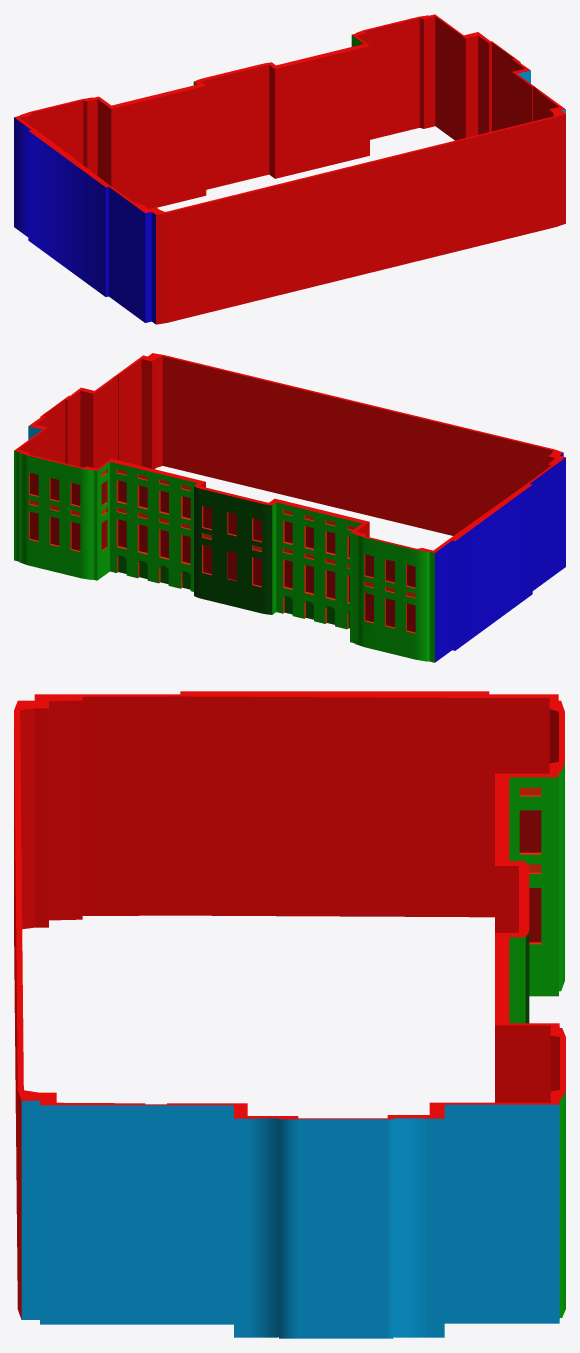
Rendered from MainWalls_low.FBX.
3 views of the same model, one above another, from view 1: azimuth 30°, elevation 25°; view 2: azimuth 150°, elevation 25°; view 3: azimuth 270°, elevation 25° (orthographic). The views are drawn at different scales.
Visible parts, largest first — view 1: OuterWalls; view 2: OuterWalls; view 3: OuterWalls.
Boxes of the visible parts, x1,y1,x2,y2 form: OuterWalls: (14, 14, 565, 324); OuterWalls: (14, 353, 565, 662); OuterWalls: (14, 691, 565, 1338).
Size of the model in its own units: 4804 by 1147 by 2618.
